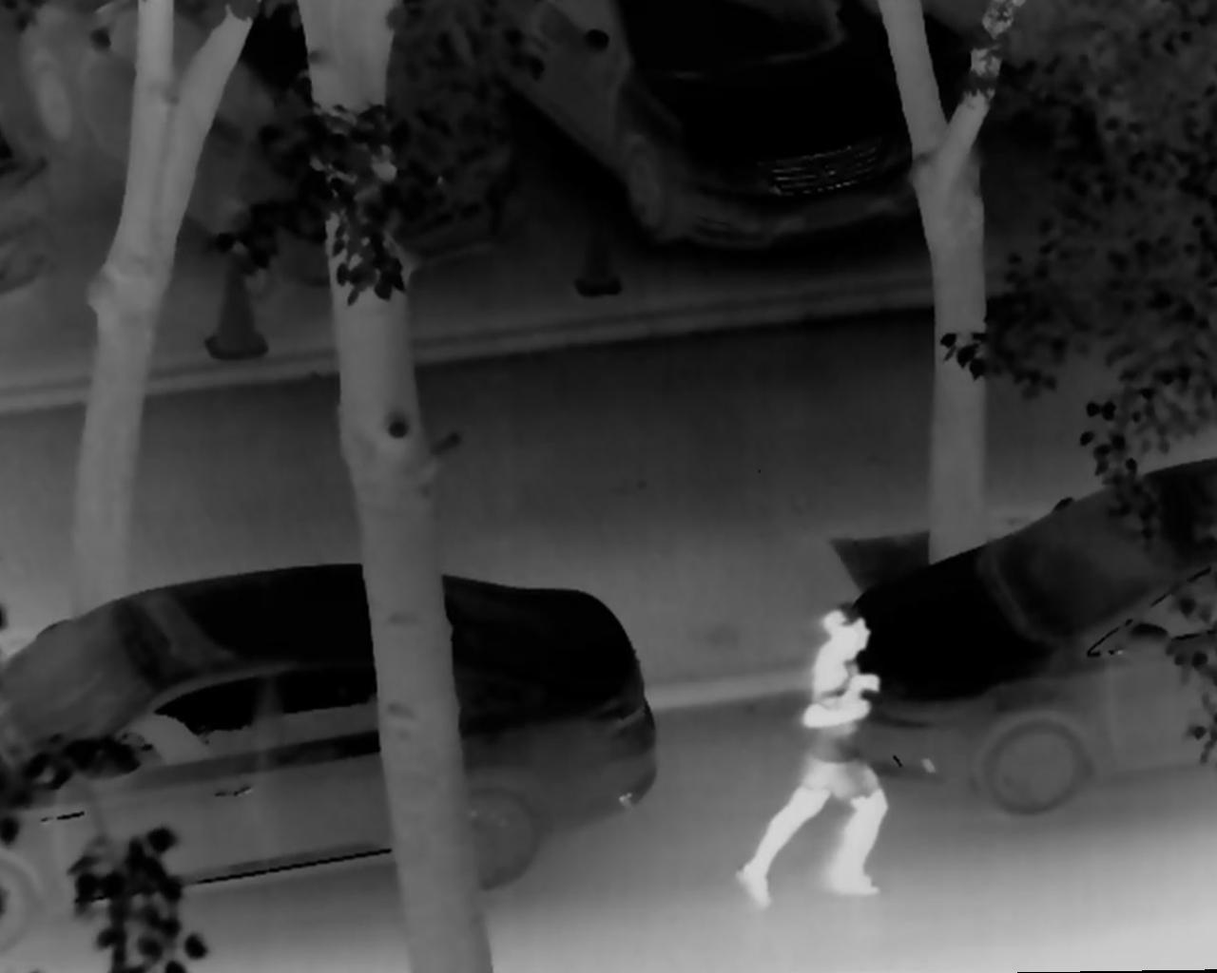person: (725, 593, 895, 908)
